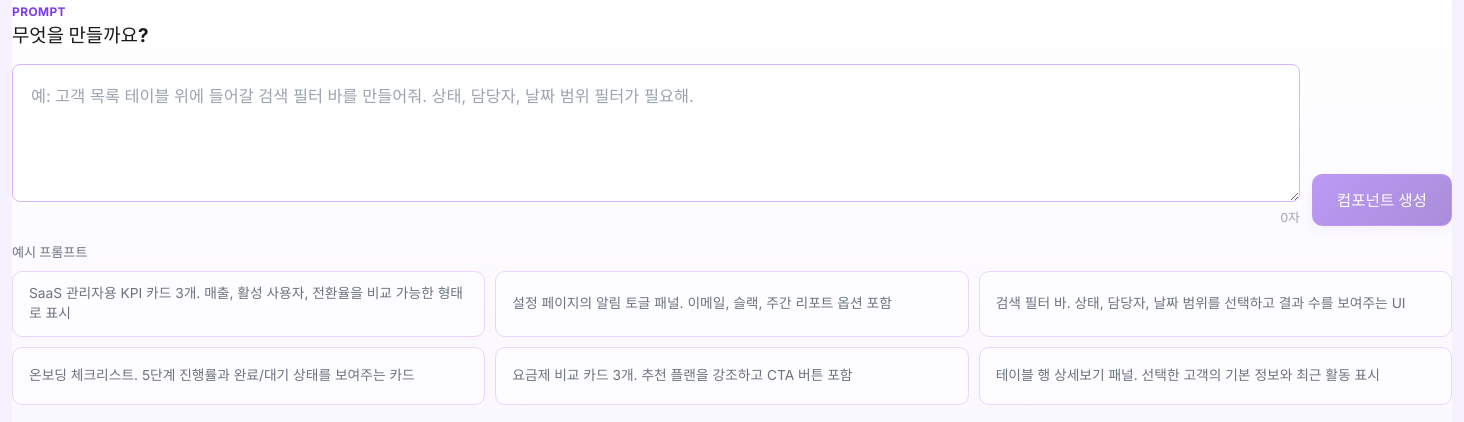
PromptInput › 입력한 글자 수를 실시간으로 보여준다
expect the text "0자" is shown: met, box [1280, 208, 1300, 226]
Type "프로필 카드" into the text box at [656, 133], box [12, 64, 1300, 202]
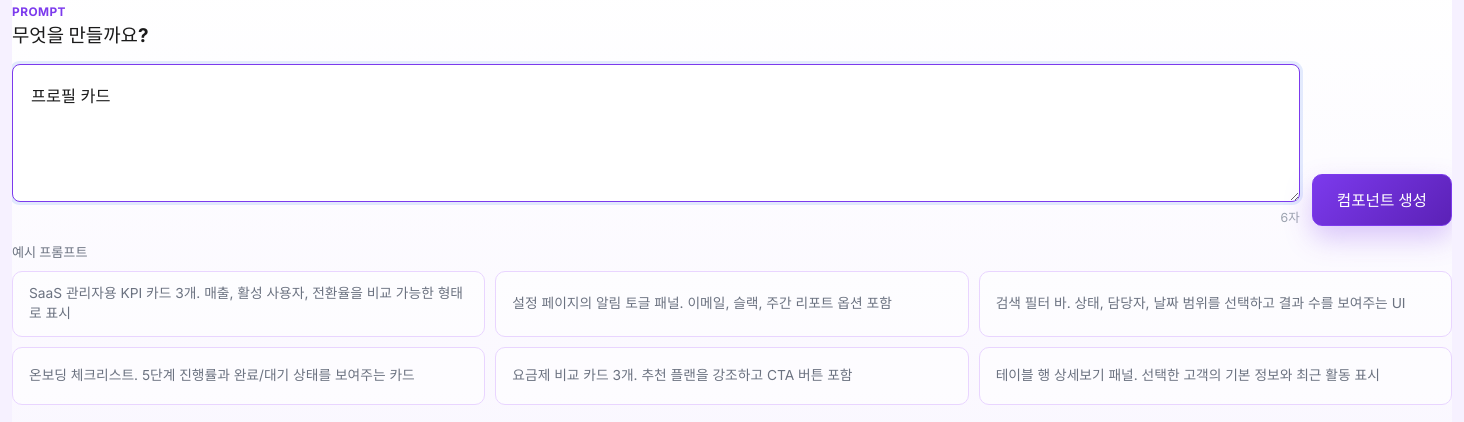
expect the text "6자" is shown: met, box [1280, 208, 1300, 226]
